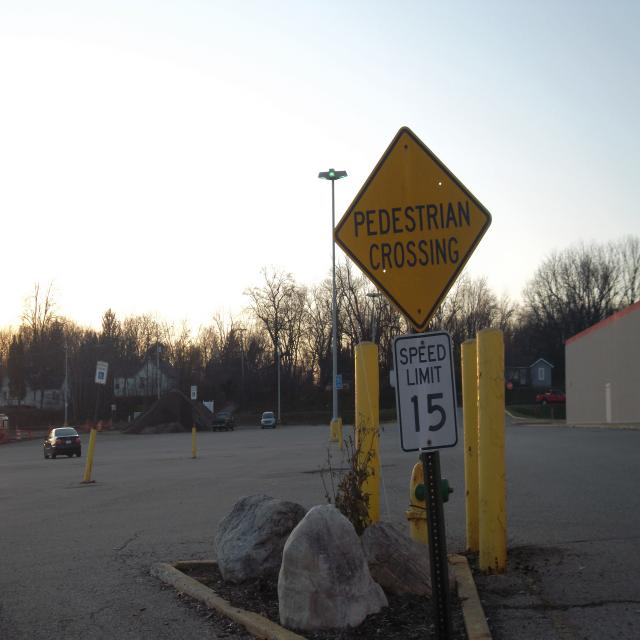regulatory: (392, 329, 462, 453), (95, 358, 109, 389), (190, 384, 198, 402), (110, 404, 118, 411)
warning: (334, 123, 496, 330)
